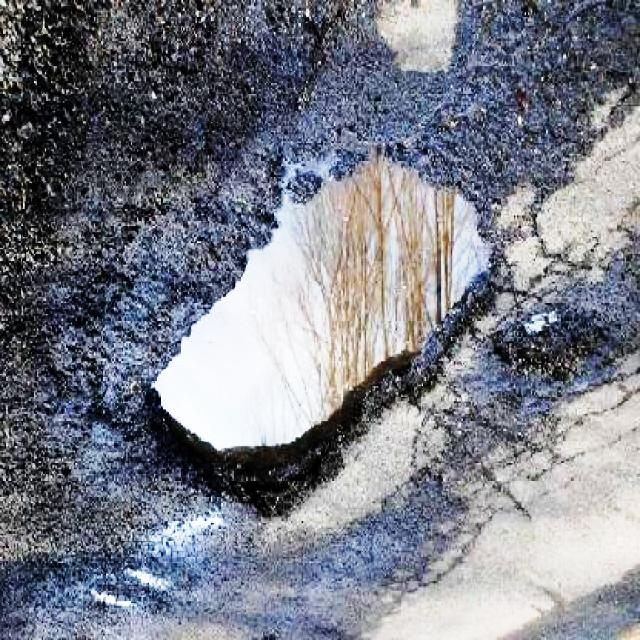pothole: (135, 129, 514, 525), (491, 302, 623, 391)
